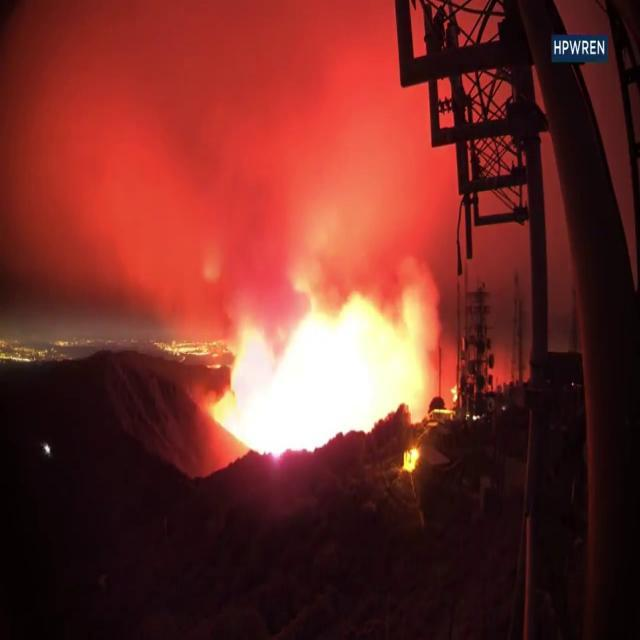Fire: (211, 279, 443, 461), (450, 383, 458, 403)
